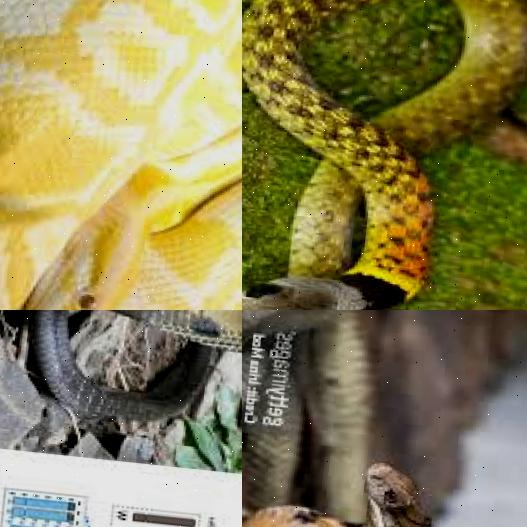snake: (242, 0, 527, 310), (0, 0, 242, 310), (242, 310, 481, 527), (17, 310, 242, 451)
